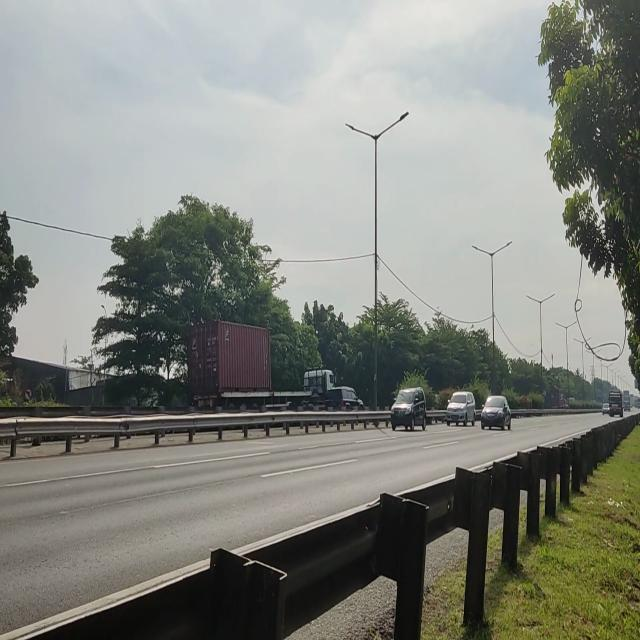Golongan I: (387, 385, 431, 437), (444, 387, 478, 431)
